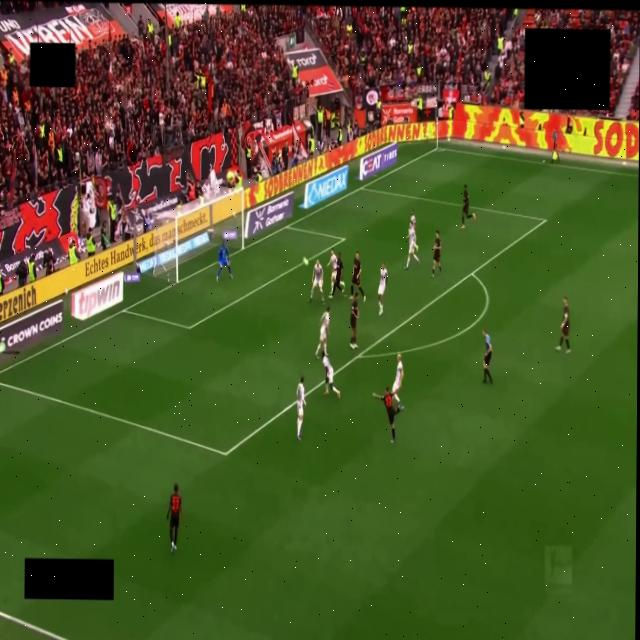ball: (302, 258, 308, 266)
player: (373, 388, 397, 443), (167, 484, 181, 553), (315, 306, 331, 360), (322, 354, 340, 398), (556, 296, 570, 352), (350, 252, 365, 300), (330, 250, 345, 298), (391, 354, 403, 410), (309, 261, 324, 303), (461, 185, 475, 229), (217, 240, 232, 281), (405, 226, 419, 269), (296, 376, 305, 440), (350, 292, 359, 349), (378, 263, 387, 316), (432, 230, 441, 277), (409, 211, 415, 231)
referee: (483, 329, 492, 382)
